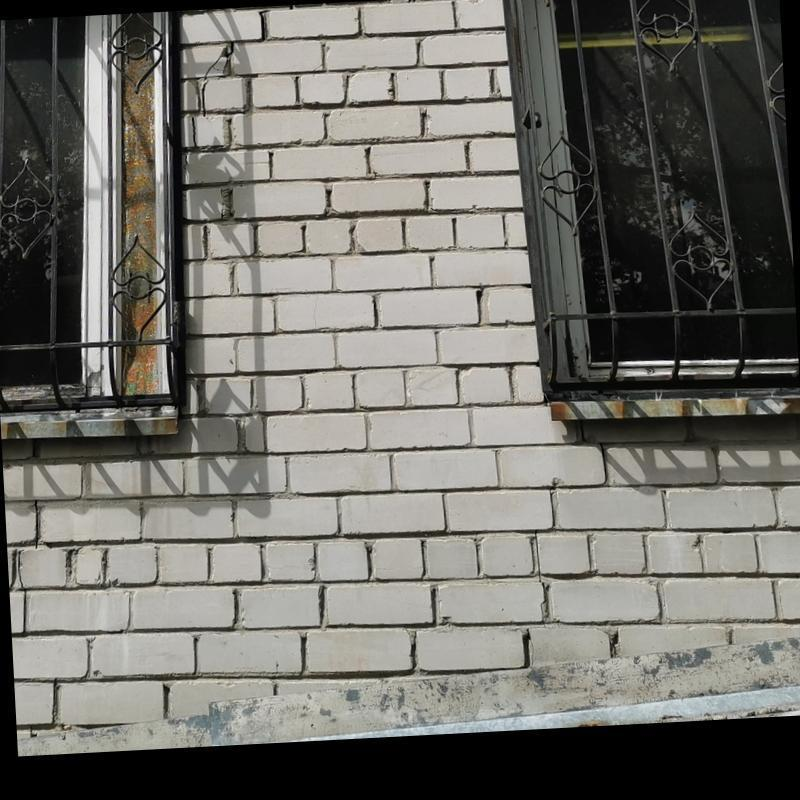crack: (202, 41, 234, 118), (258, 9, 271, 42), (191, 115, 197, 148), (182, 151, 190, 171)
